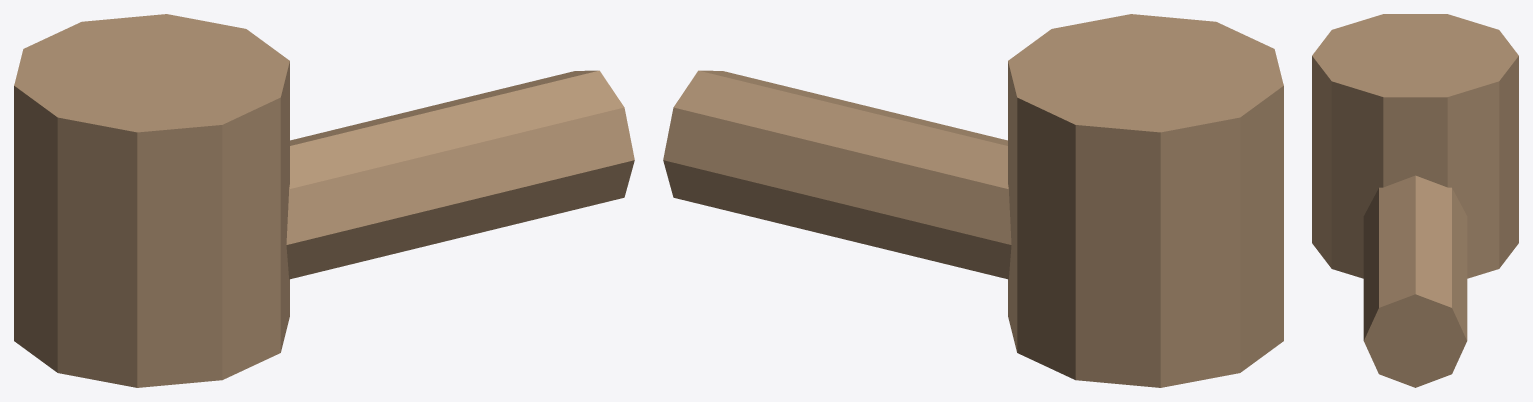
The model's file is stump_cluster.glb.
3 views of the same model, side by side, from view 1: azimuth 30°, elevation 25°; view 2: azimuth 150°, elevation 25°; view 3: azimuth 270°, elevation 25° (orthographic). The views are drawn at different scales.
Parts seen in each view (by area): view 1: stump, log; view 2: stump, log; view 3: stump, log.
Boxes of the visible parts, bbox=[...] form: stump: bbox=[14, 14, 289, 387]; log: bbox=[286, 70, 634, 279]; stump: bbox=[1008, 14, 1283, 387]; log: bbox=[663, 70, 1011, 279]; stump: bbox=[1312, 14, 1518, 278]; log: bbox=[1363, 175, 1467, 387].
Bounding box in the file's own units: 1.39 × 0.6001 × 0.5996.
